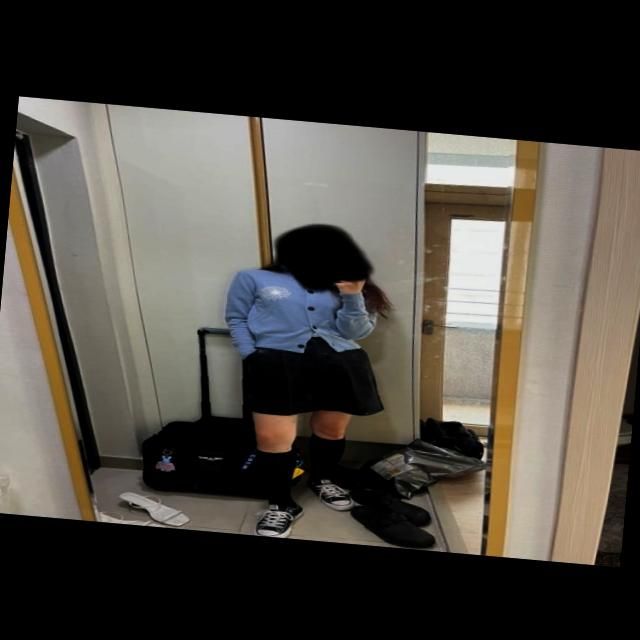cardigan: (218, 258, 382, 368)
shortpants: (238, 324, 390, 424)
